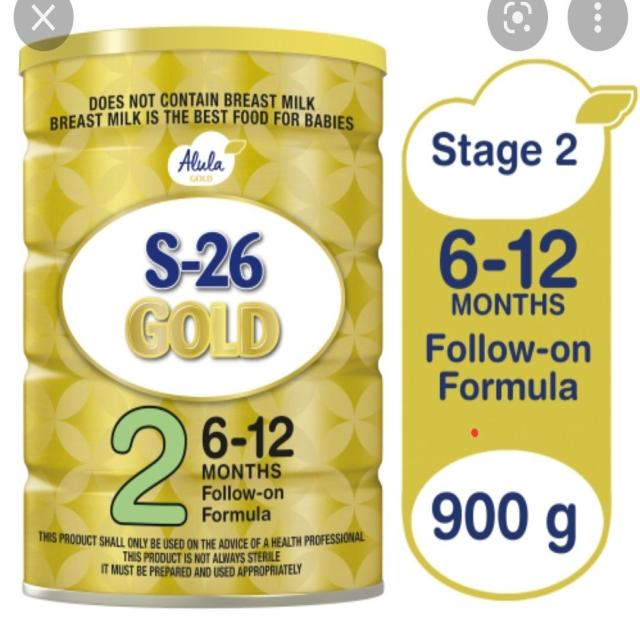formula-milk: (27, 40, 365, 575), (411, 106, 586, 580)
